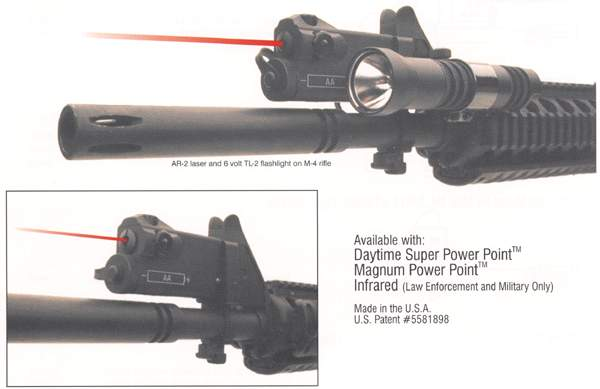rifle: (49, 12, 589, 182), (14, 204, 322, 377)
